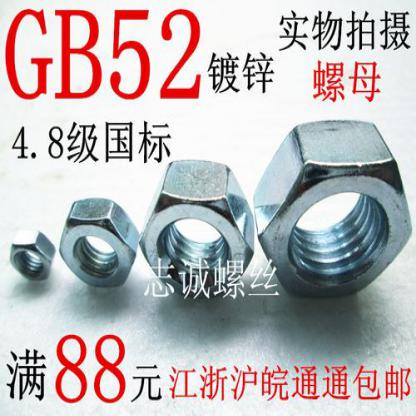FOD: (254, 119, 412, 298), (139, 156, 255, 302), (58, 196, 138, 290), (6, 228, 56, 285)
